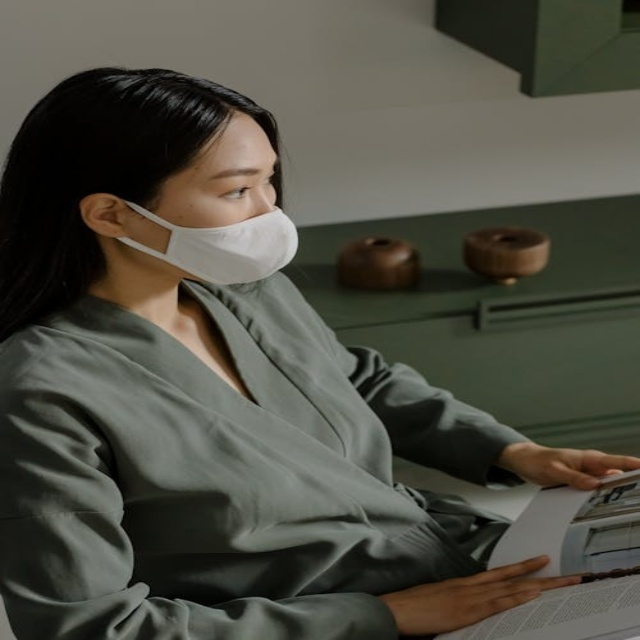Mascara: (112, 197, 300, 285)
Sin_gafas: (183, 157, 284, 203)
Sin_guantes: (395, 556, 581, 637), (497, 435, 637, 490)
